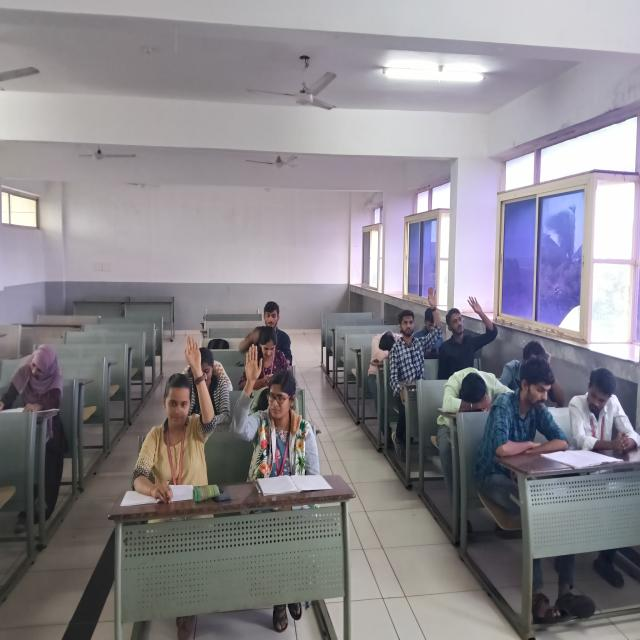Hand Rising: (125, 330, 222, 496), (228, 340, 314, 481), (384, 284, 444, 391), (437, 282, 500, 382)
Reading: (474, 352, 584, 464), (559, 348, 640, 462)
Sleeping: (433, 362, 512, 433), (360, 322, 403, 391)
Using Phone: (233, 327, 293, 388)
Writing: (0, 328, 80, 457)
